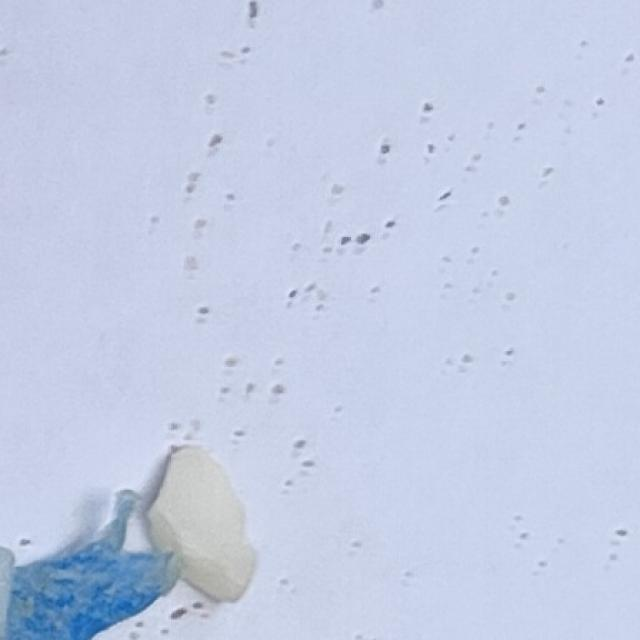fragments: (116, 437, 293, 618), (7, 541, 179, 640)
